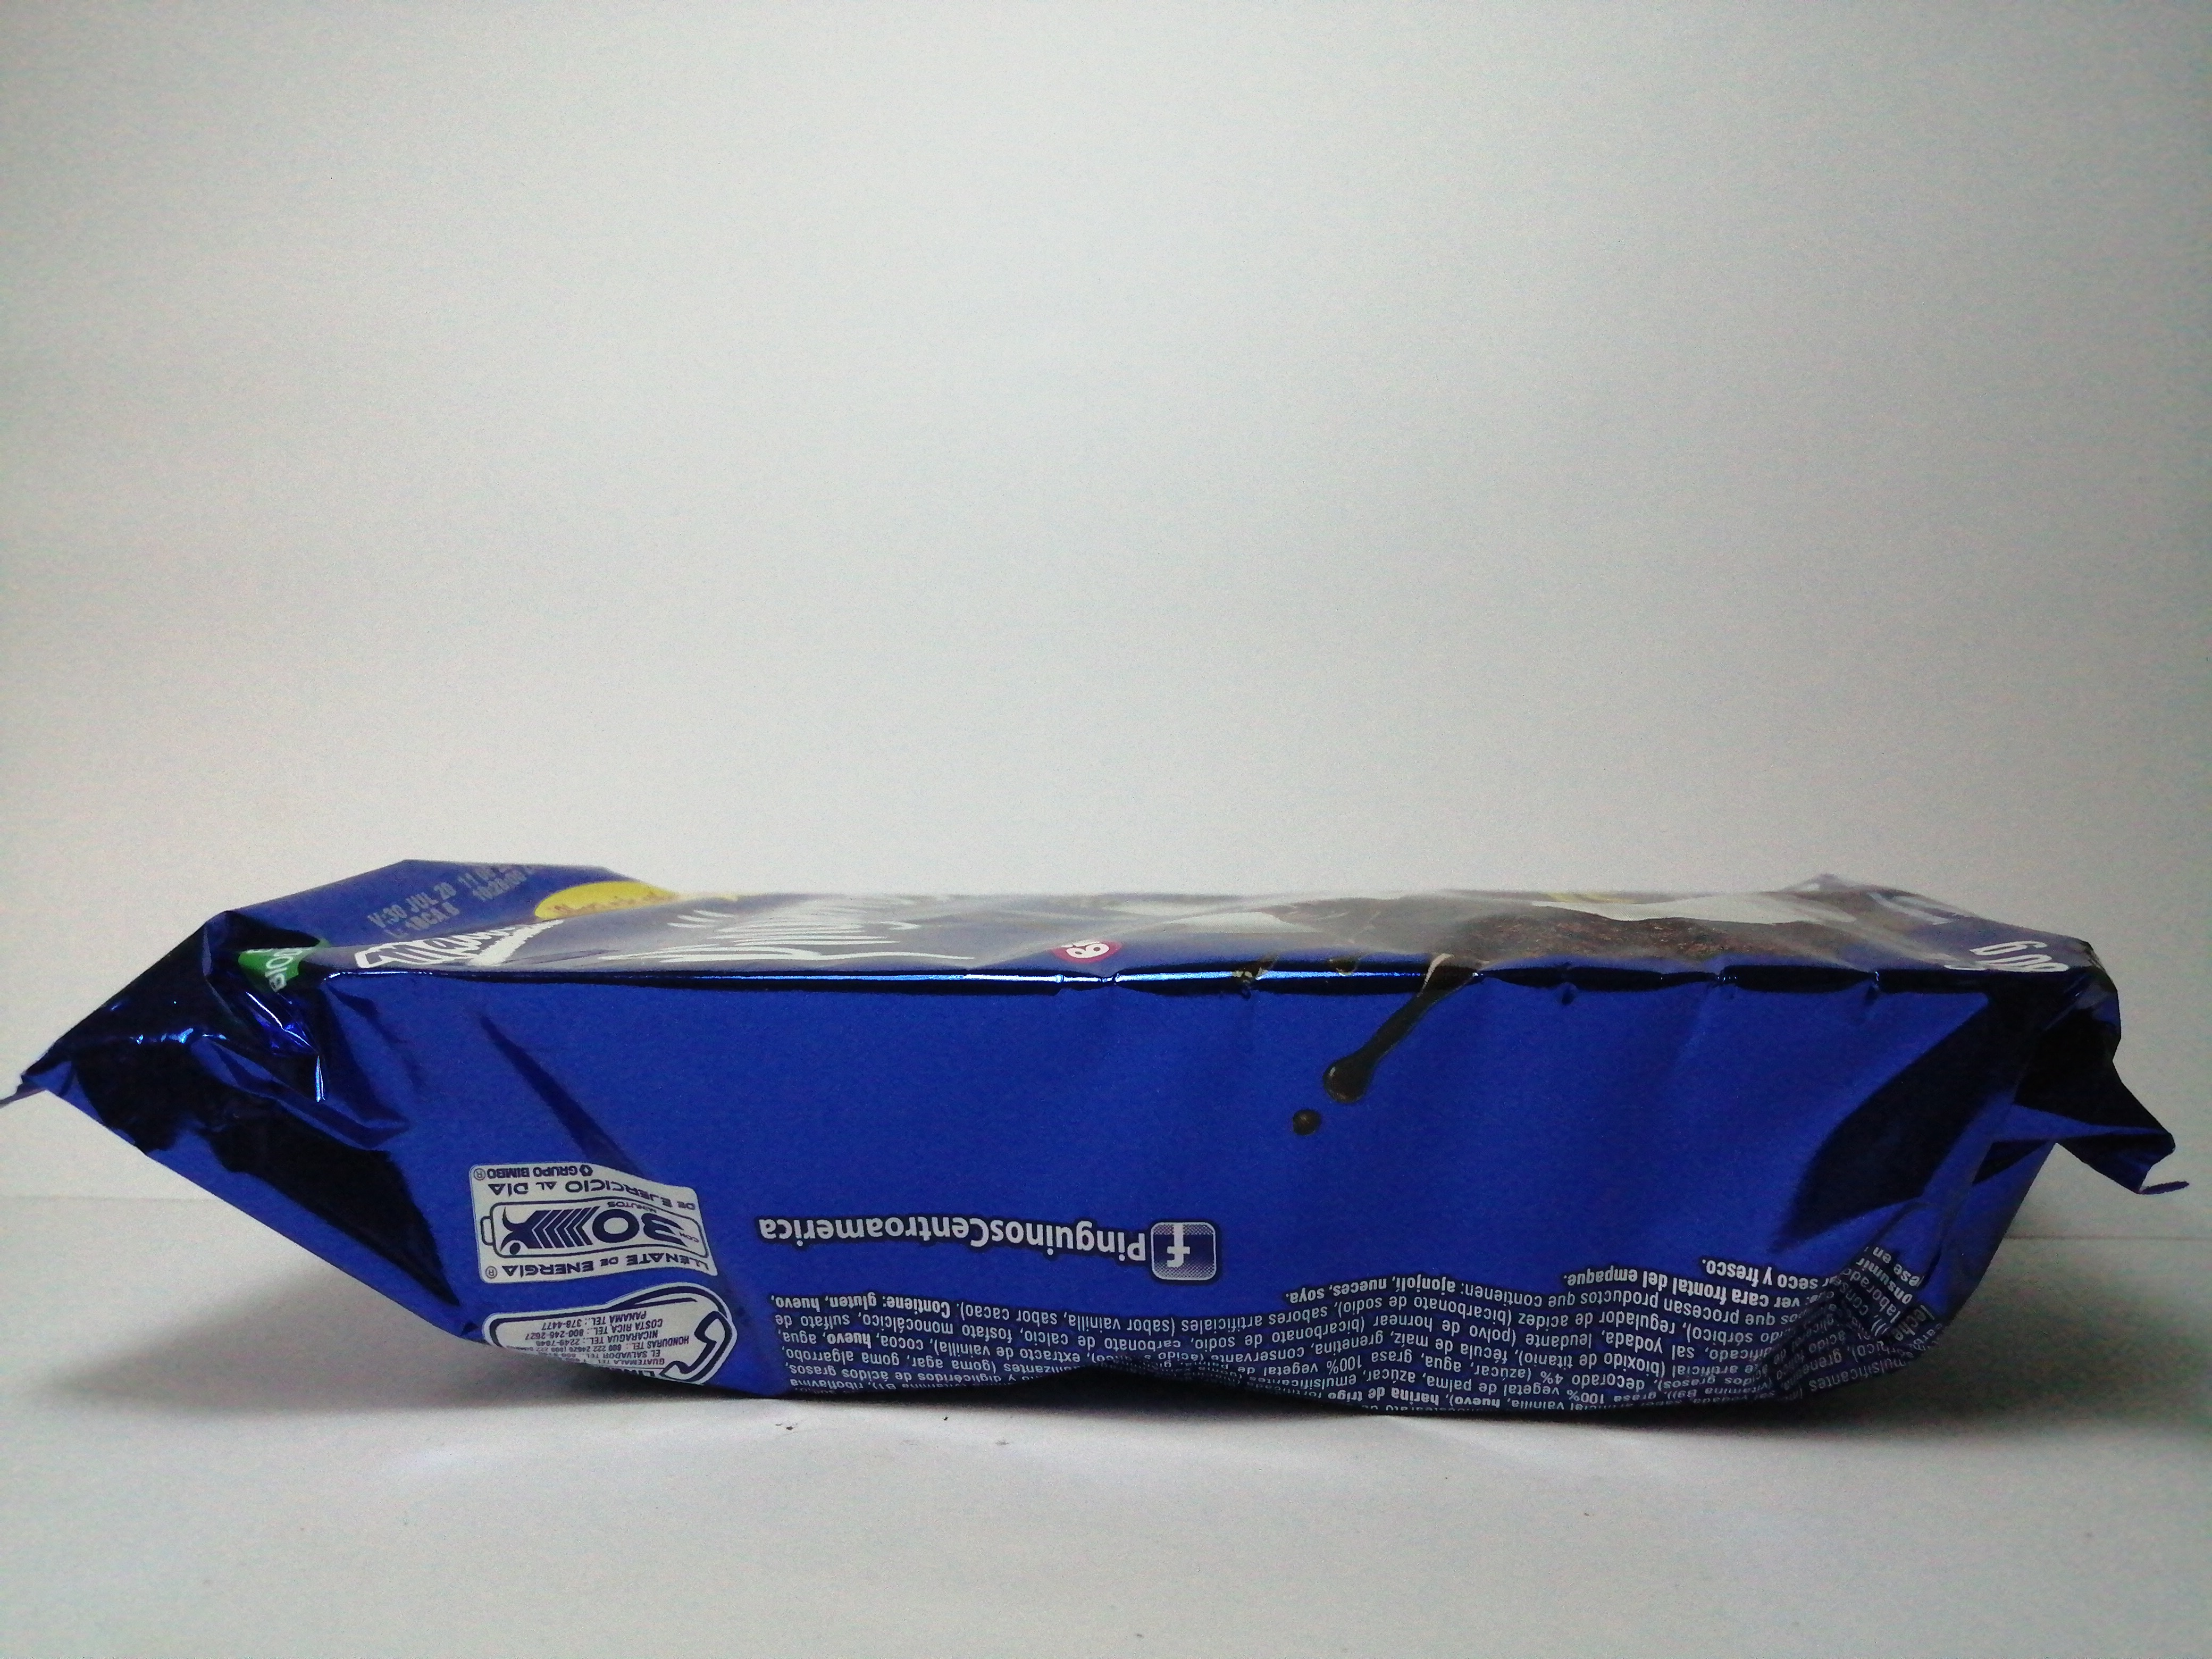pinguino: (9, 859, 2160, 1424)
